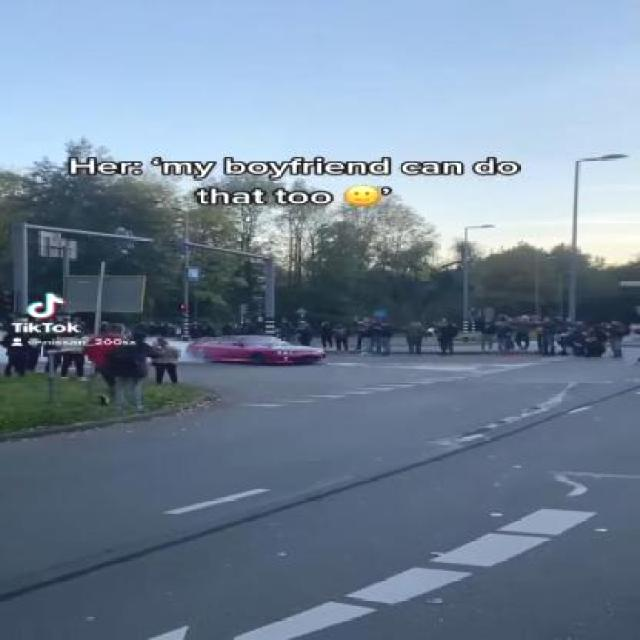car: (189, 335, 332, 369)
